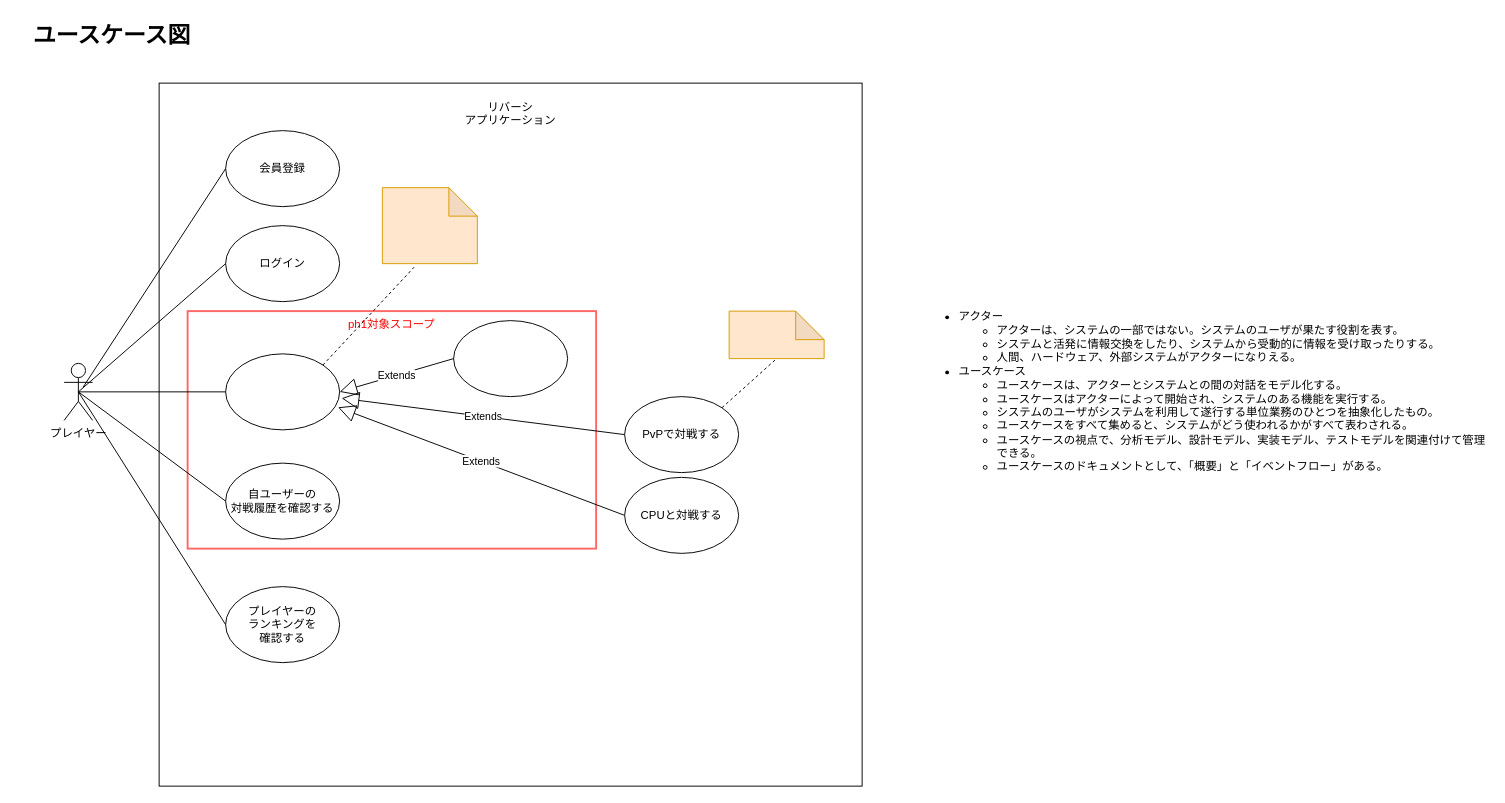
This 1505x803 diagram has some shape labels left out. The shapes that lost their labels are listed below. From the top down, each one's centre as x and y in pixels, then its label:
(429,225): ・対戦開始 ・盤面確認 ・石を打つ ・勝敗確認
(776,334): リアルタイム通信
(510,358): 1デバイスで交互に 打つ
(282,391): 対戦する
